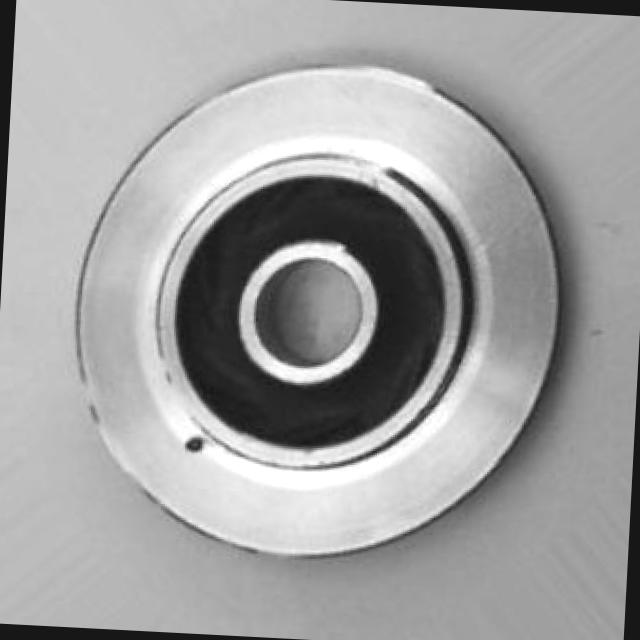Defect: (178, 430, 208, 460)
